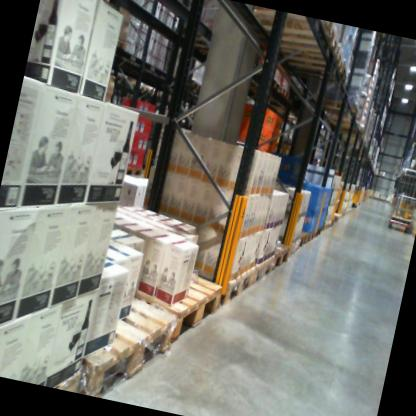pallet: (74, 283, 185, 410), (114, 248, 230, 359), (247, 7, 343, 56), (273, 38, 346, 78), (287, 54, 355, 91), (214, 258, 256, 311), (248, 249, 277, 290), (51, 362, 87, 393), (264, 236, 293, 271), (318, 98, 362, 120), (270, 230, 301, 258), (183, 74, 205, 93), (120, 165, 143, 183), (292, 230, 309, 253), (133, 74, 151, 93), (267, 75, 284, 95), (144, 82, 161, 98), (280, 86, 292, 104), (304, 225, 317, 241)
